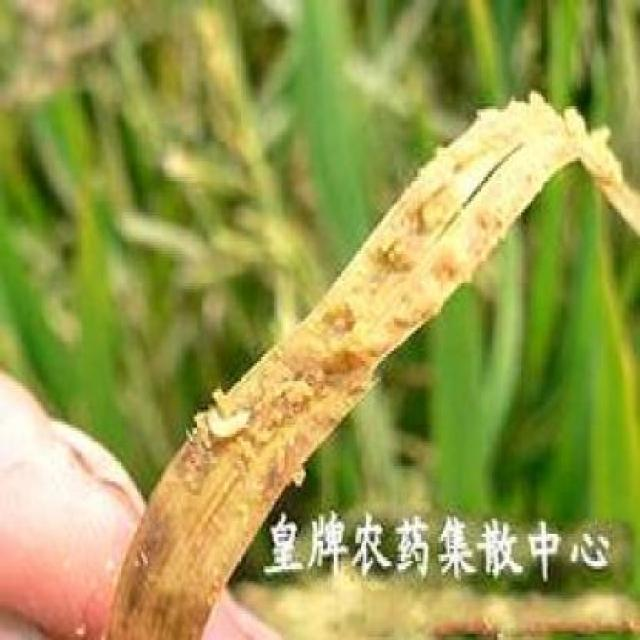whorl-maggot: (203, 402, 260, 448)
